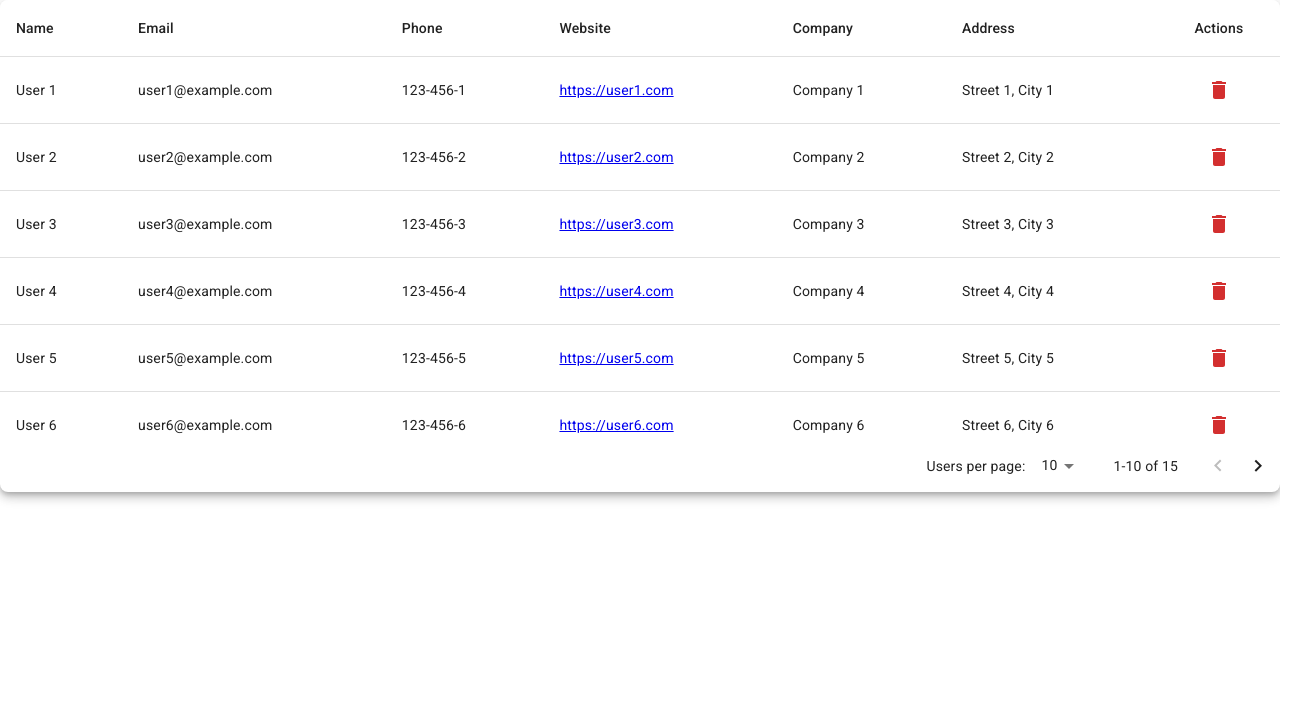
Test: UserTable Component › handles user deletion
Check: the text "User 1" is shown, box [0,57,122,124]
Note: Delete first user
Click the button named "delete user" in the row of "User 1".
click(1219, 90)  # box [1202,73,1236,107]
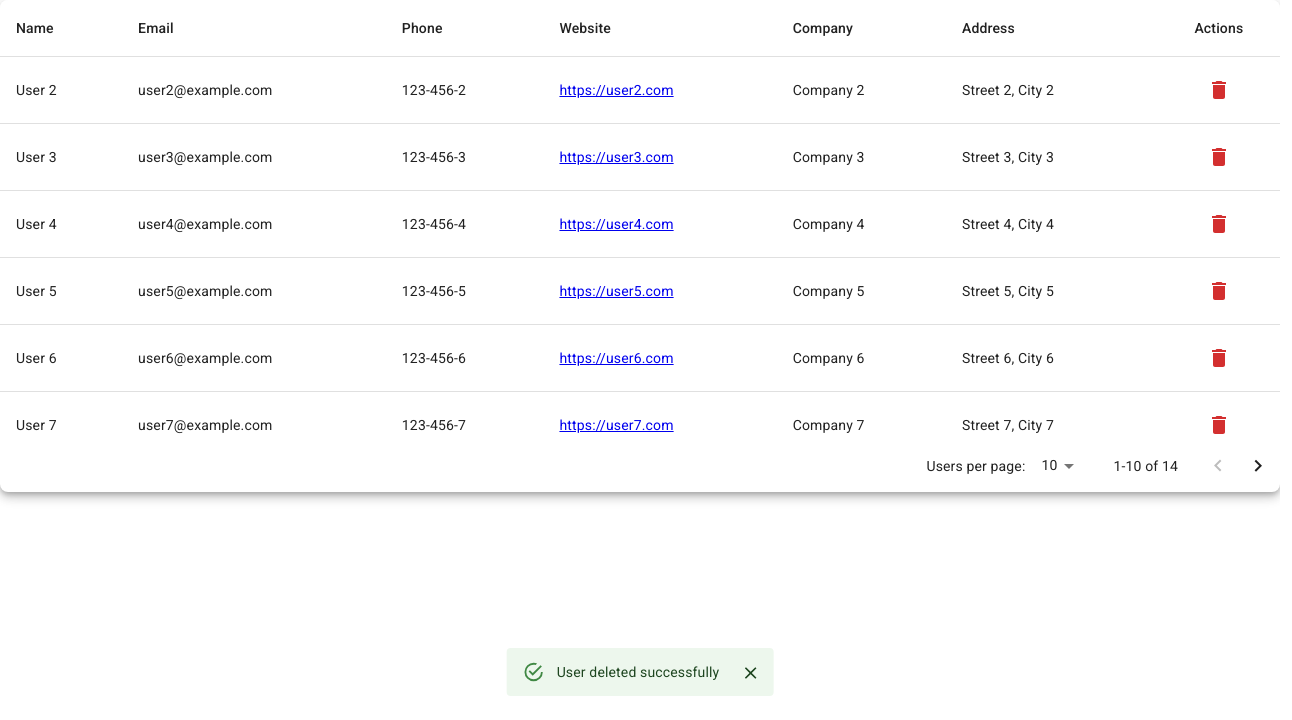
Check: the text "User deleted successfully" is shown, box [557,664,719,680]
